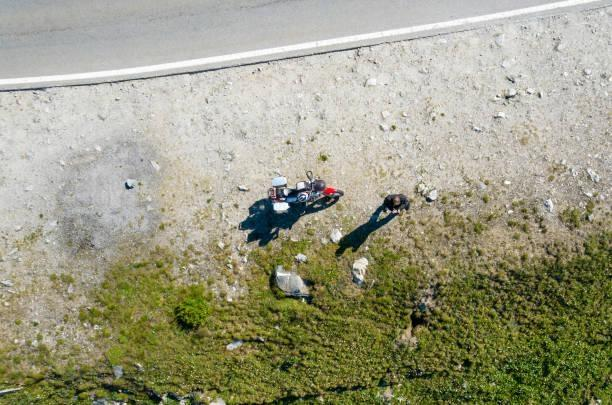Motorcycle: (264, 170, 346, 208)
